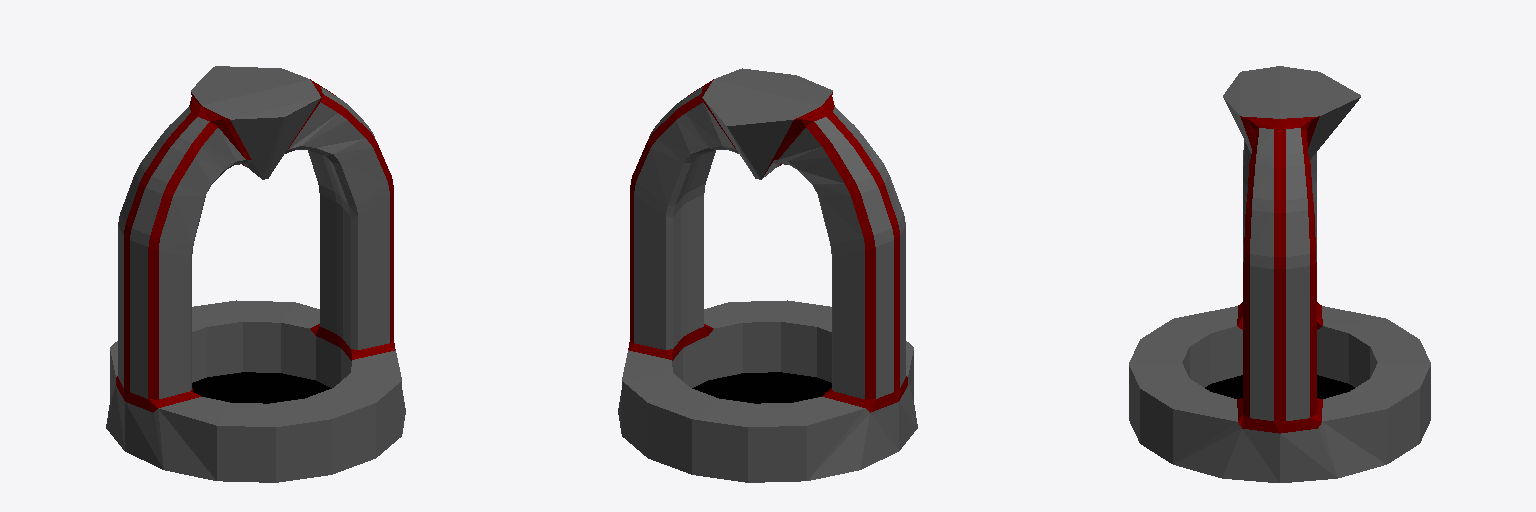
Rendered from spawn.obj.
3 renders of one model, left to right at view 1: azimuth 30°, elevation 25°; view 2: azimuth 150°, elevation 25°; view 3: azimuth 270°, elevation 25°, orthographic.
Visible parts, largest first — view 1: Cylinder28; view 2: Cylinder28; view 3: Cylinder28.
Part boxes in pixels (bbox=[...]): Cylinder28: bbox=[106, 66, 405, 482]; Cylinder28: bbox=[618, 68, 917, 482]; Cylinder28: bbox=[1129, 66, 1430, 482].
Bounding box in the file's own units: 1.87 × 2.23 × 1.87.